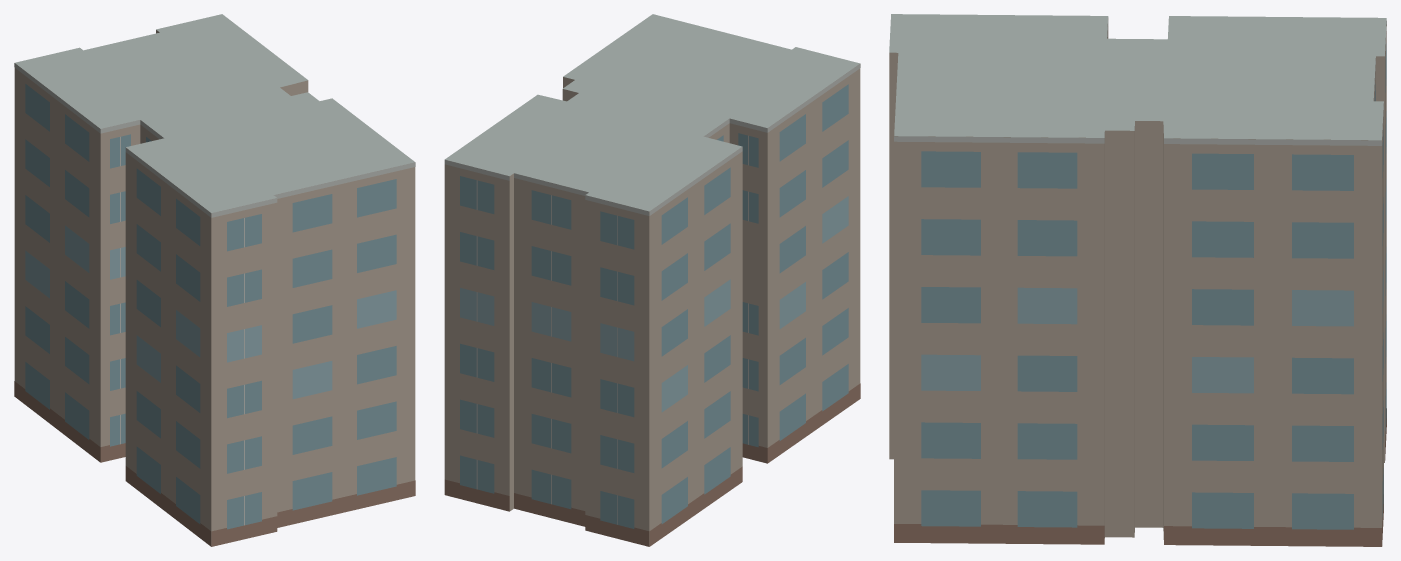
Rendered from survey-upis-32661377.glb.
3 renders of one model, left to right at view 1: azimuth 30°, elevation 25°; view 2: azimuth 150°, elevation 25°; view 3: azimuth 270°, elevation 25°, orthographic. The views are drawn at different scales.
Visible parts, largest first — view 1: survey-upis-32661377.tmp; view 2: survey-upis-32661377.tmp; view 3: survey-upis-32661377.tmp.
Part boxes in pixels (box(x1,y1,x2,y2)): survey-upis-32661377.tmp: box(14, 14, 415, 546); survey-upis-32661377.tmp: box(444, 14, 860, 546); survey-upis-32661377.tmp: box(889, 14, 1386, 546).
Bounding box in the file's own units: 11.59 × 17.4 × 19.31.
